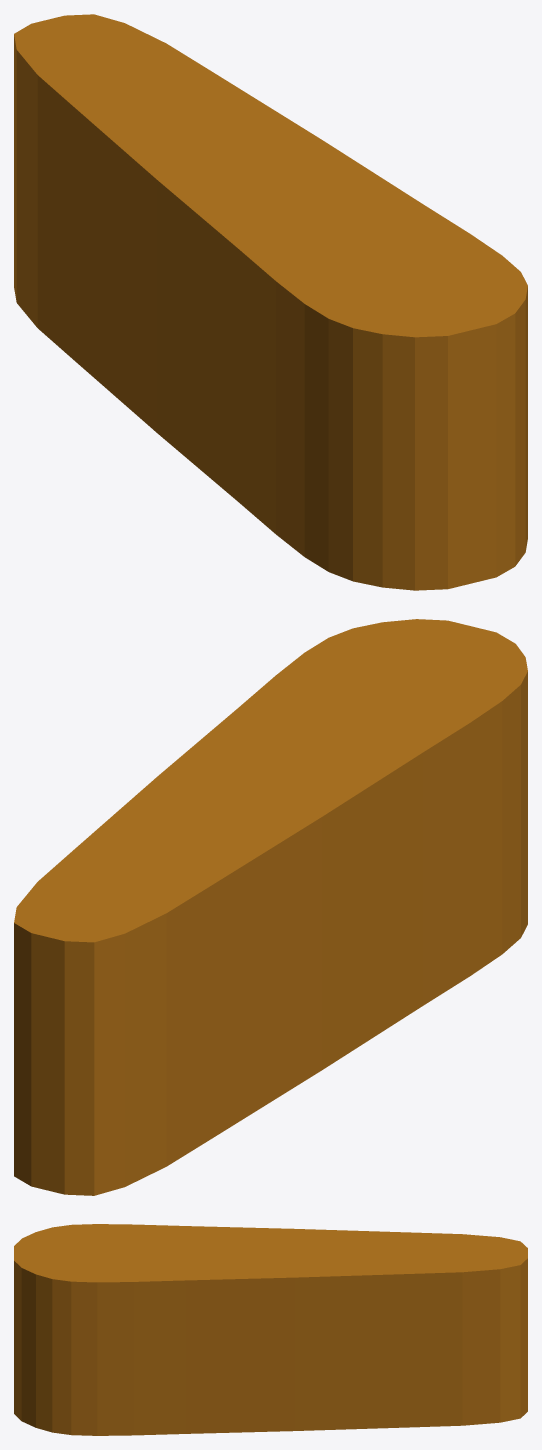
File: Flipper_Collider.fbx
The picture shows the model from 3 angles, top to bottom: view 1: azimuth 30°, elevation 25°; view 2: azimuth 150°, elevation 25°; view 3: azimuth 270°, elevation 25°; orthographic projection. The views are drawn at different scales.
Visible parts, largest first — view 1: Flipper_Collider; view 2: Flipper_Collider; view 3: Flipper_Collider.
Part boxes in pixels (x1=…): Flipper_Collider: x1=14, y1=14, x2=527, y2=590; Flipper_Collider: x1=14, y1=619, x2=527, y2=1195; Flipper_Collider: x1=14, y1=1224, x2=527, y2=1435.
Size of the model in its own units: 2.18 by 2.67 by 8.1.
